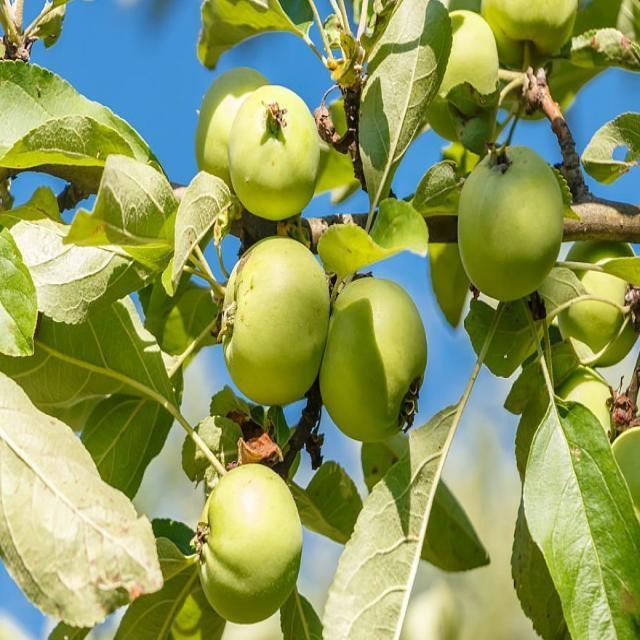Green Apple: (191, 461, 304, 634), (220, 235, 328, 407), (452, 144, 564, 309), (323, 273, 414, 450), (230, 91, 318, 225), (192, 58, 276, 192), (563, 233, 639, 358), (430, 1, 500, 128), (488, 1, 574, 61), (608, 424, 640, 565), (563, 371, 615, 449)
